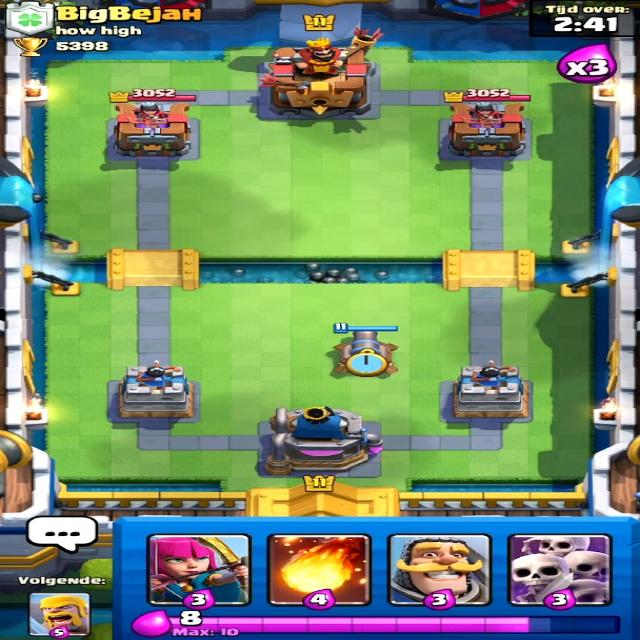Cannon_Troop: (325, 322, 405, 376)
Fireball_Card: (276, 535, 364, 601)
